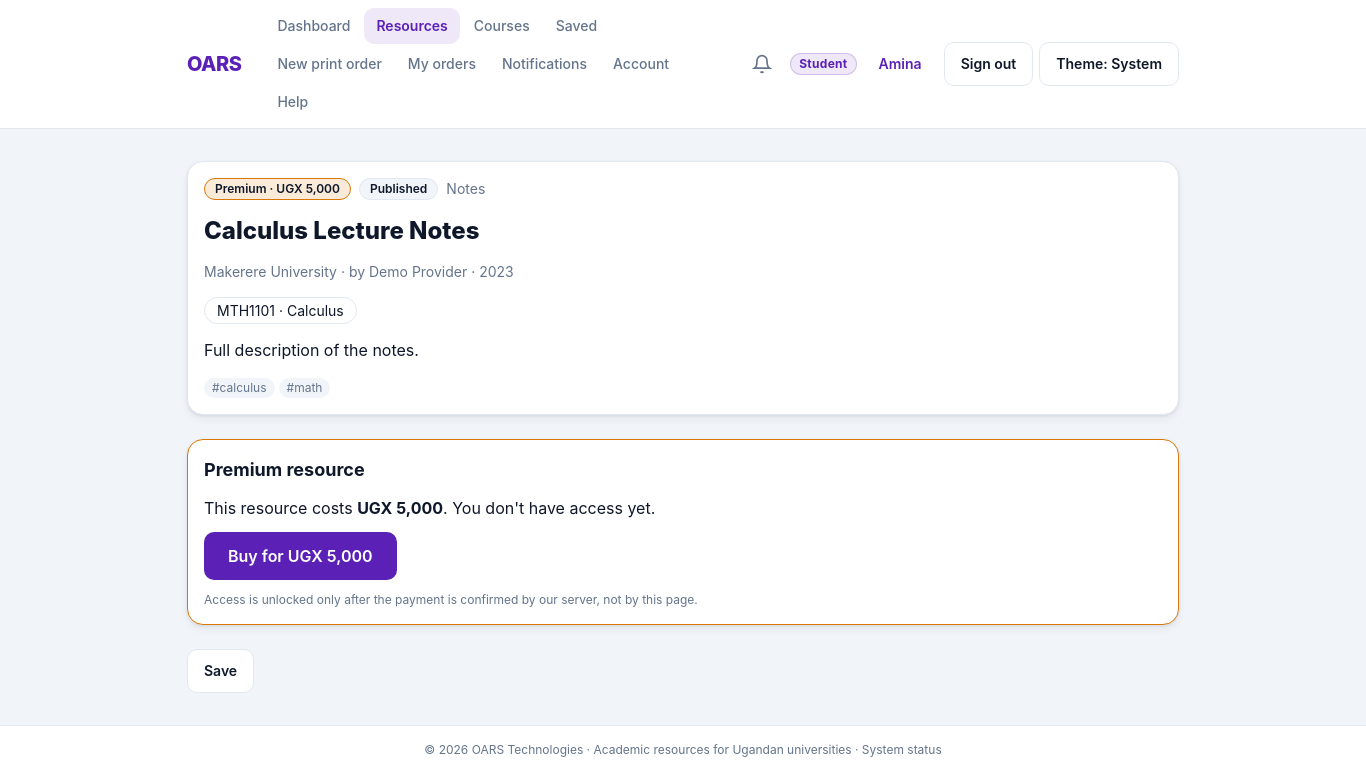
Scenario: buying a premium resource › shows why a purchase could not start
The image size is (1366, 768).
What coordinates should you click on to do the following:
click the button "Buy for UGX 5,000"
I would click on:
 (300, 556)
Its box is [204,532,397,580].
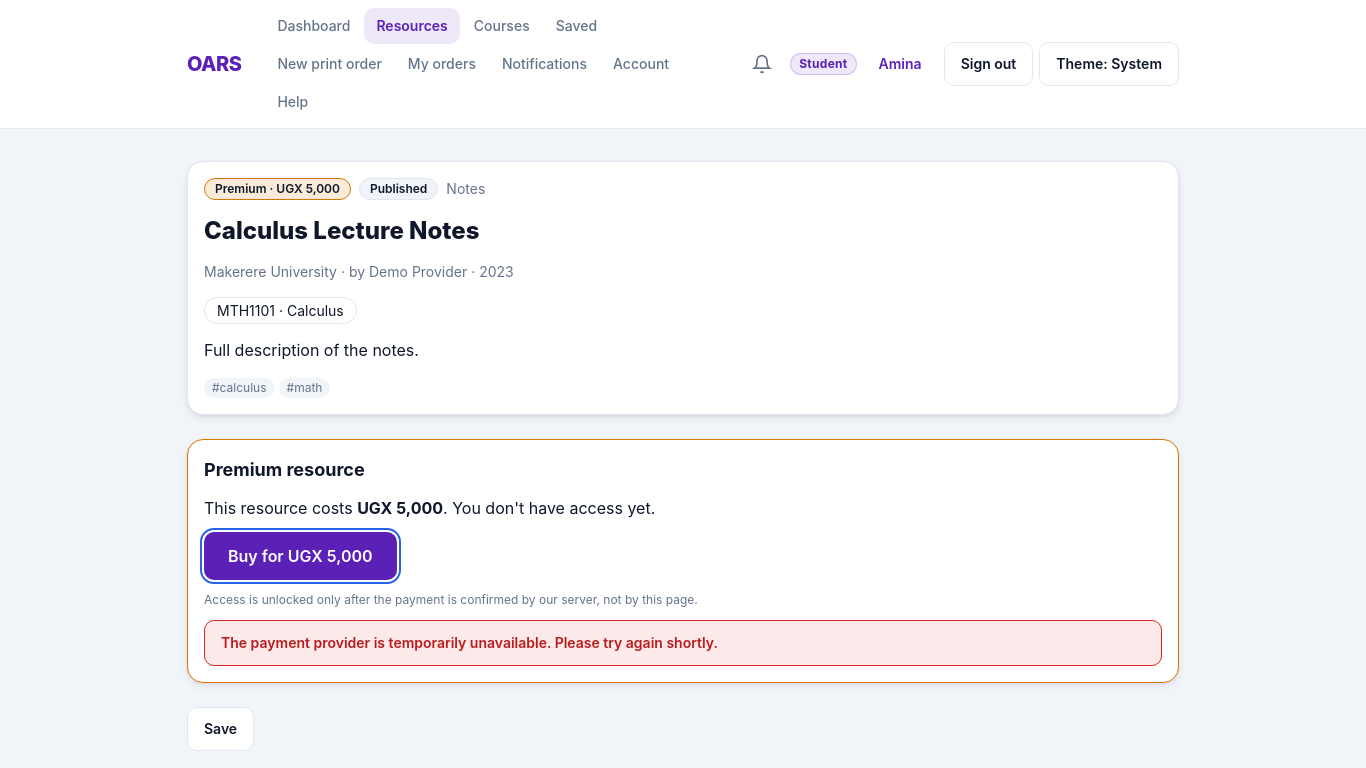
Result: the message shows "temporarily unavailable" at [221,634,718,651]
